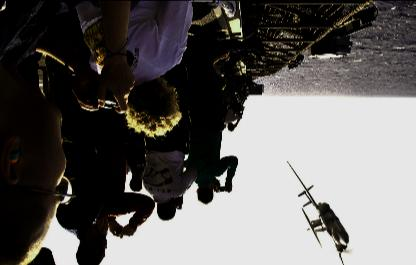C5: (286, 161, 353, 264)
